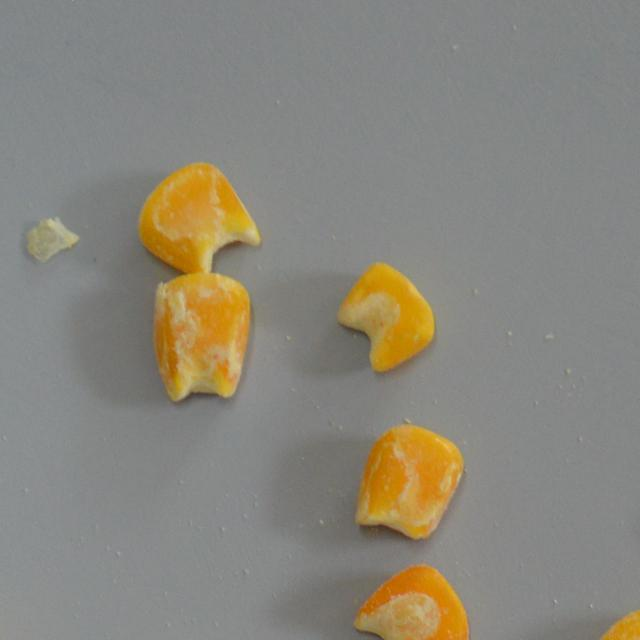dañado: (136, 158, 266, 276), (150, 270, 255, 408), (352, 421, 466, 543), (350, 558, 473, 640), (584, 601, 640, 640)
punto_negro: (335, 260, 438, 375)
